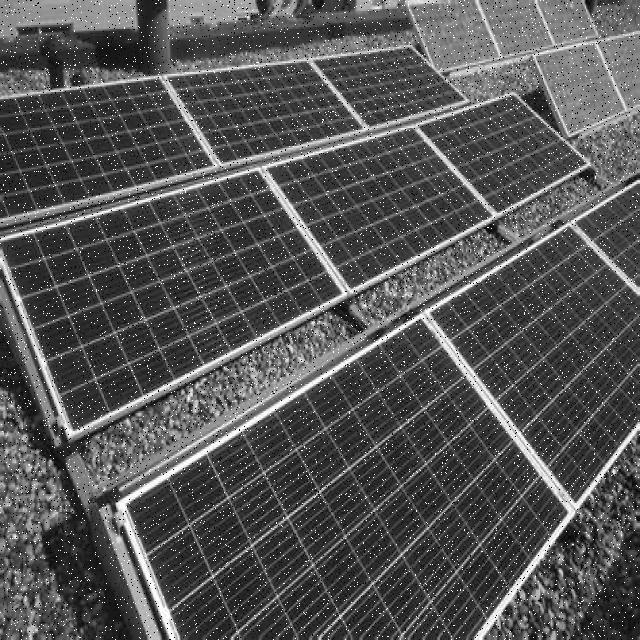clean: (133, 187, 638, 638), (4, 48, 578, 432)
